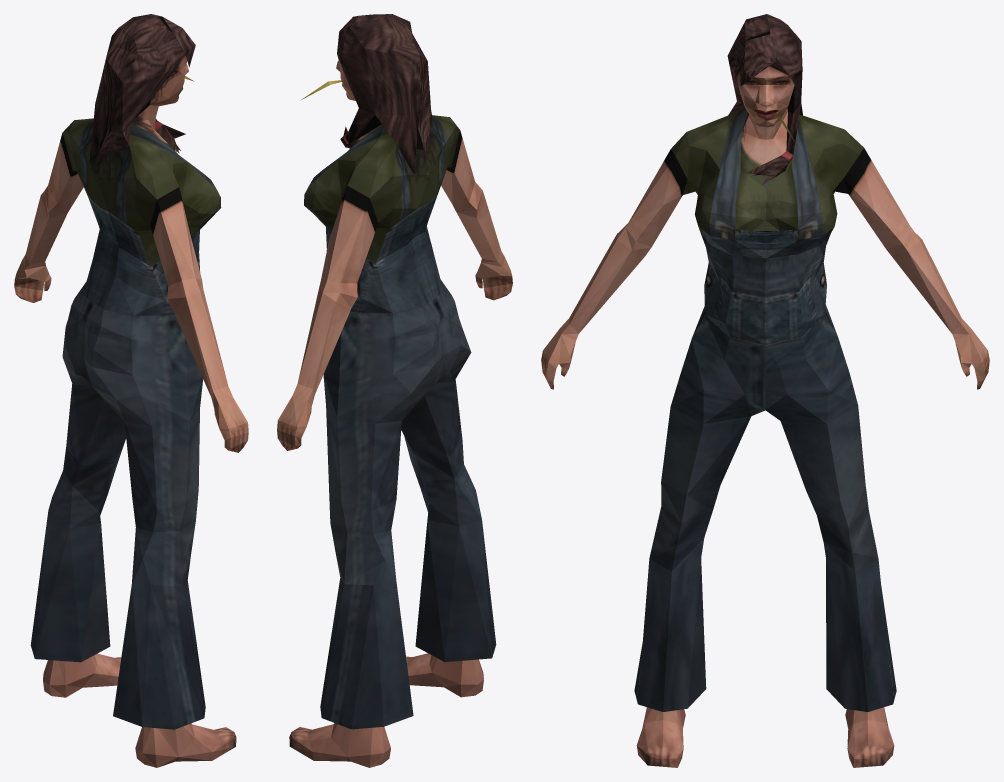
The model's file is cwfyhb.obj.
3 renders of one model, left to right at view 1: azimuth 30°, elevation 25°; view 2: azimuth 150°, elevation 25°; view 3: azimuth 270°, elevation 25°, orthographic. The views are drawn at different scales.
Visible parts, largest first — view 1: _Pelvis; view 2: _Pelvis; view 3: _Pelvis.
Boxes of the visible parts, x1,y1,x2,y2 form: _Pelvis: [14, 14, 248, 767]; _Pelvis: [277, 14, 512, 767]; _Pelvis: [541, 14, 989, 767].
Size of the model in its own units: 0.3618 by 1.77 by 0.9832.
1 material, 1 textured.
